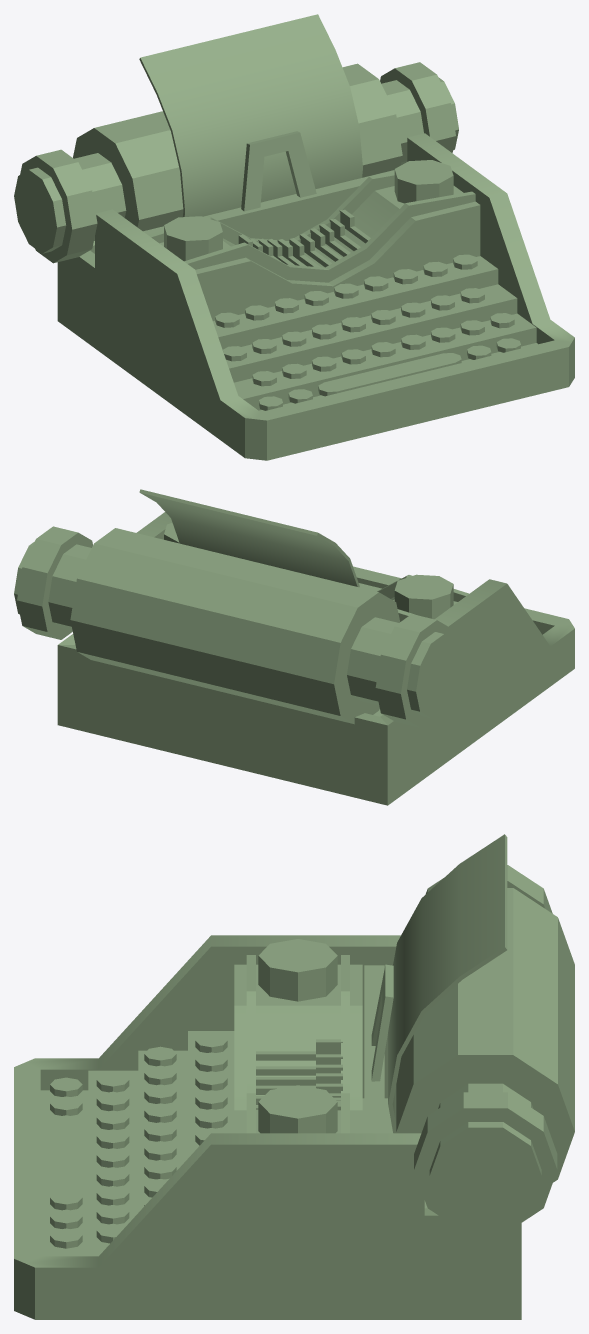
File: Typewritter.fbx
The picture shows the model from 3 angles, top to bottom: view 1: azimuth 30°, elevation 25°; view 2: azimuth 150°, elevation 25°; view 3: azimuth 270°, elevation 25°; orthographic projection. The views are drawn at different scales.
Parts seen in each view (by area): view 1: Typewritter; view 2: Typewritter; view 3: Typewritter.
Boxes of the visible parts, x1=… form: Typewritter: x1=14, y1=14, x2=574, y2=460; Typewritter: x1=14, y1=489, x2=574, y2=805; Typewritter: x1=14, y1=834, x2=574, y2=1319.
Bounding box in the file's own units: 56.38 × 33.47 × 52.42.
